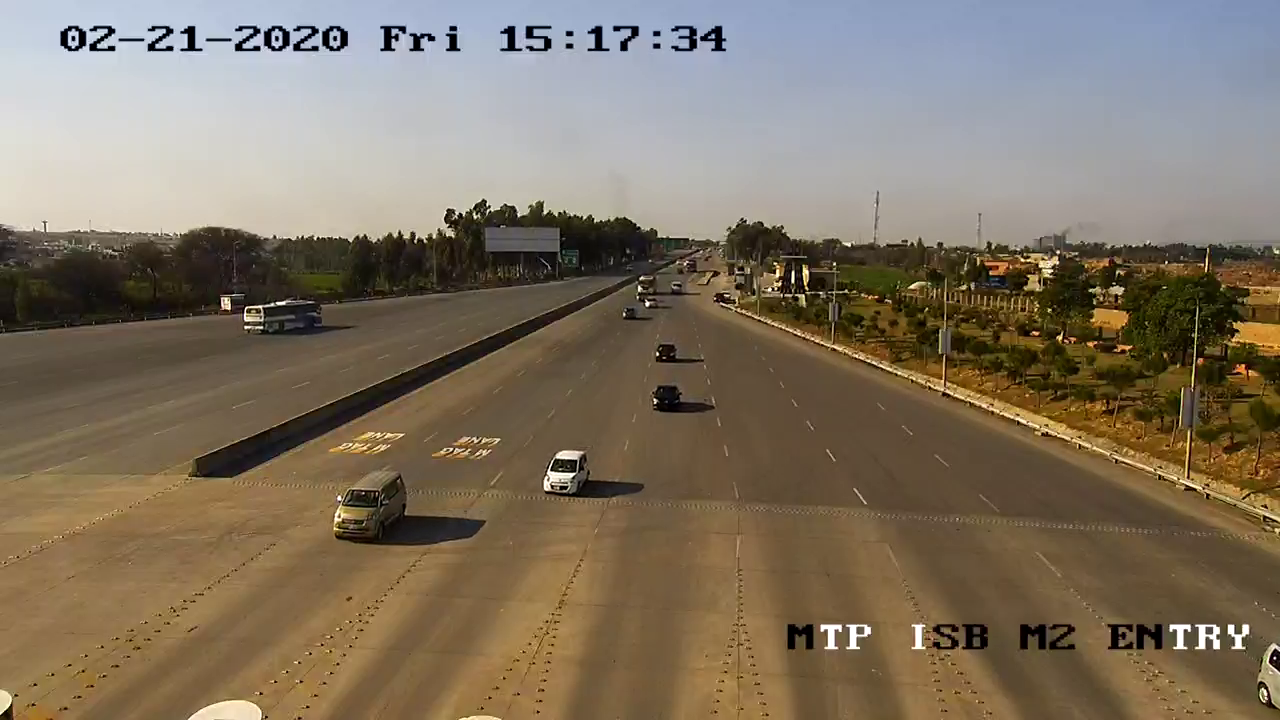f1: (326, 462, 417, 555), (539, 441, 600, 504)
